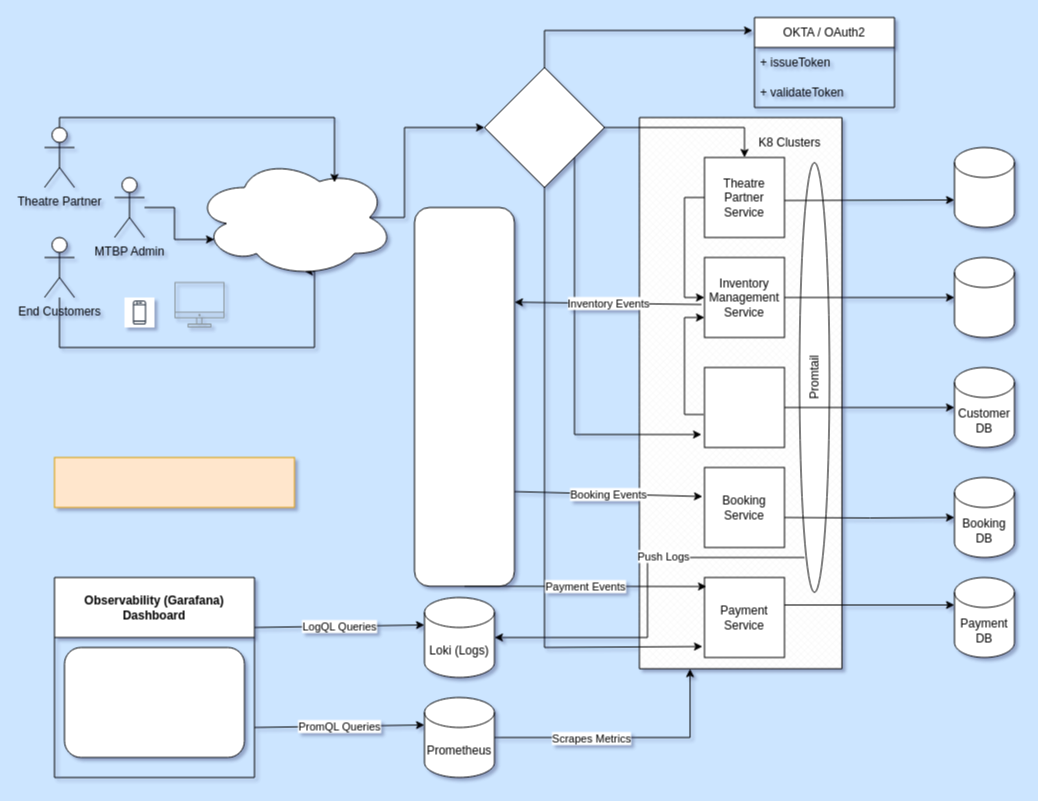
Image size: 1038x801. Some labels were removed from this diagram. The shapes that lost their labels are listed below. From the top down, each one's centre as x and y in pixels, then its label:
At (x=544, y=127): "API Gateway".
At (x=984, y=187): "Theatre Partner DB".
At (x=294, y=217): "Load Balancer (https://www.mtbp.com)".
At (x=984, y=297): "Inventory DB".
At (x=464, y=396): "KAFKA Messaging Broker".
At (x=744, y=407): "Customer Service".
At (x=174, y=482): "MTBP (C4 Diagrams)".
At (x=154, y=702): "+ customMetrics + serviceMetrics + timers + transactionIds".
